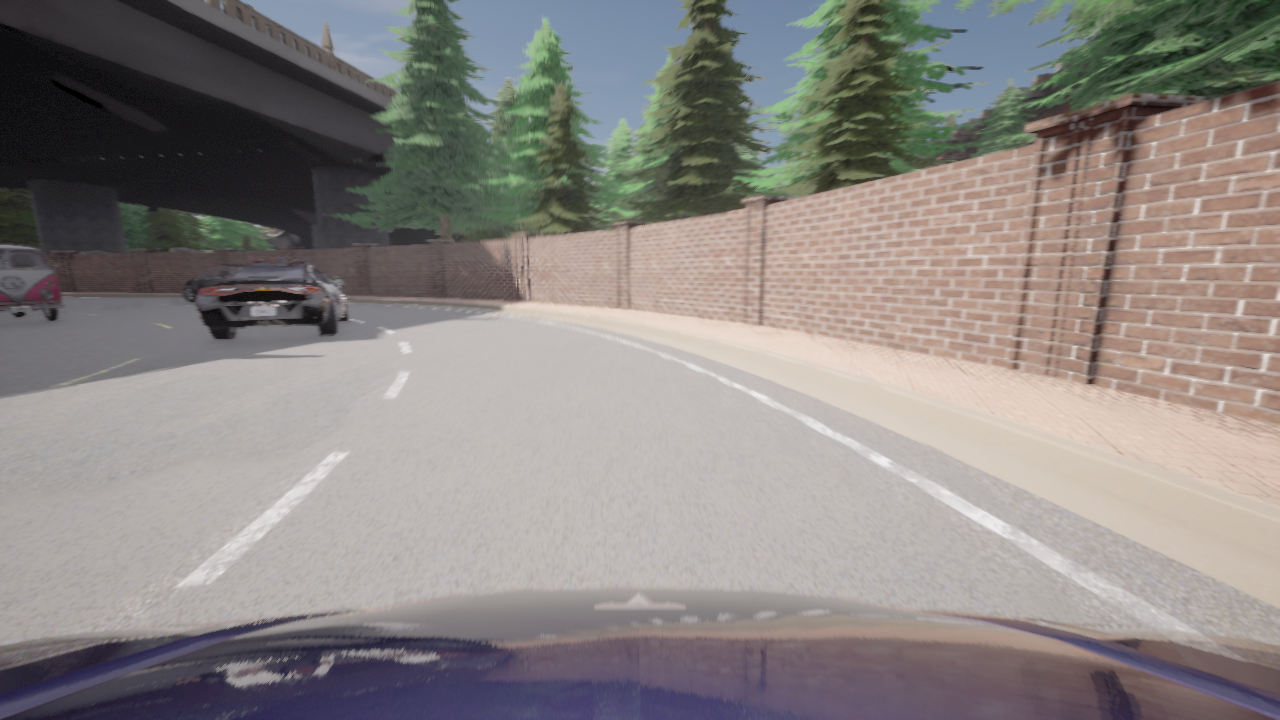cyclist: (0, 588, 1279, 719), (195, 258, 348, 340), (0, 244, 63, 320), (183, 264, 244, 302), (324, 273, 334, 281)
